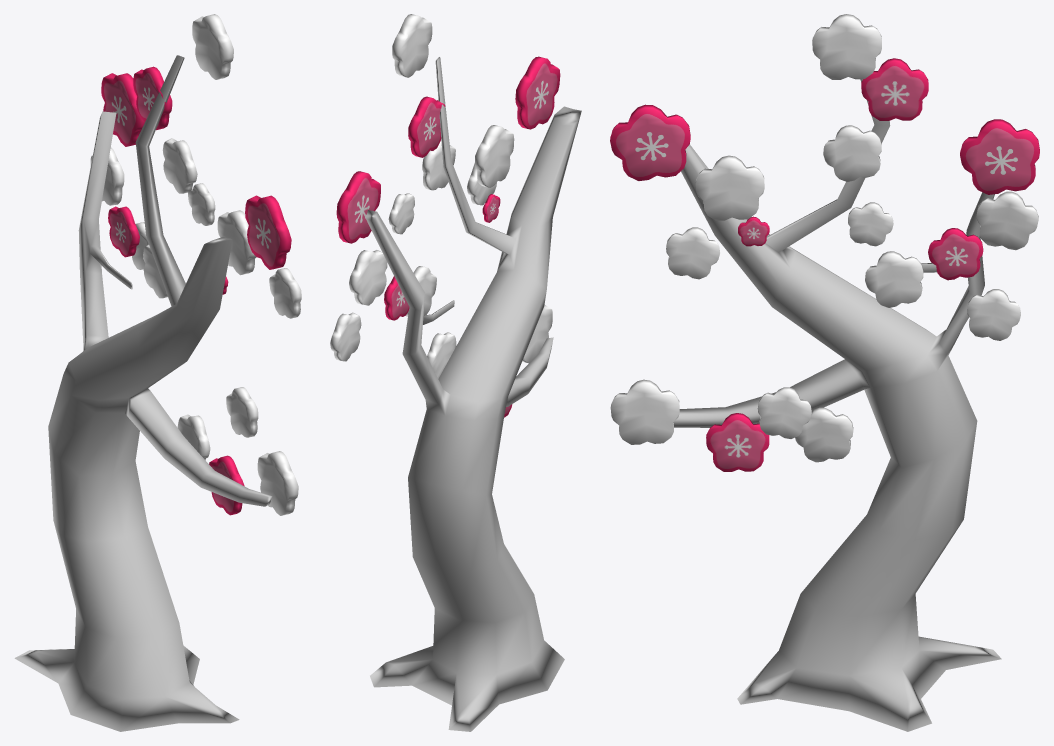
Rendered from NewUmeTree1.fbx.
3 views of the same model, side by side, from view 1: azimuth 30°, elevation 25°; view 2: azimuth 150°, elevation 25°; view 3: azimuth 270°, elevation 25° (orthographic). The views are drawn at different scales.
Visible parts, largest first — view 1: pCube3; view 2: pCube3; view 3: pCube3.
Part boxes in pixels (box(x1,y1,x2,y2)): pCube3: box(14, 14, 301, 731); pCube3: box(330, 14, 581, 731); pCube3: box(610, 14, 1039, 731).
Bounding box in the file's own units: 477 × 1936 × 1066.
